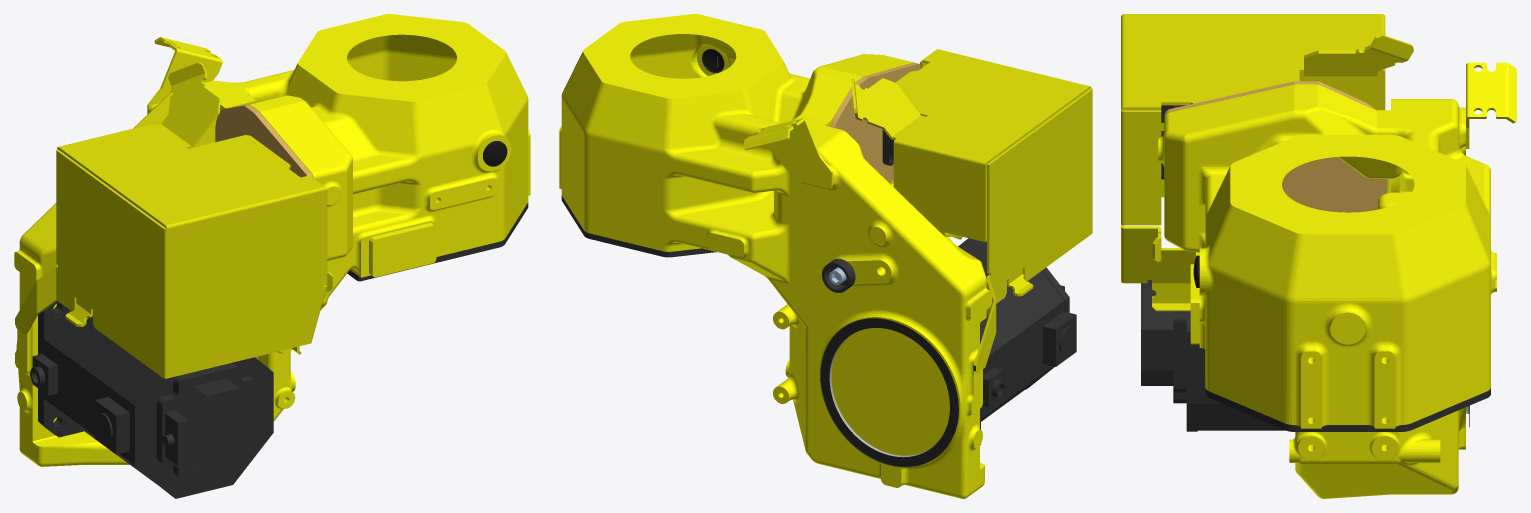
3 renders of one model, left to right at view 1: azimuth 30°, elevation 25°; view 2: azimuth 150°, elevation 25°; view 3: azimuth 270°, elevation 25°, orthographic. The views are drawn at different scales.
Visible parts, largest first — view 1: node; view 2: node; view 3: node.
Boxes of the visible parts, x1=… form: node: x1=14, y1=14, x2=530, y2=498; node: x1=559, y1=14, x2=1092, y2=498; node: x1=1121, y1=14, x2=1516, y2=498.
Bounding box in the file's own units: 433 × 347 × 269.
